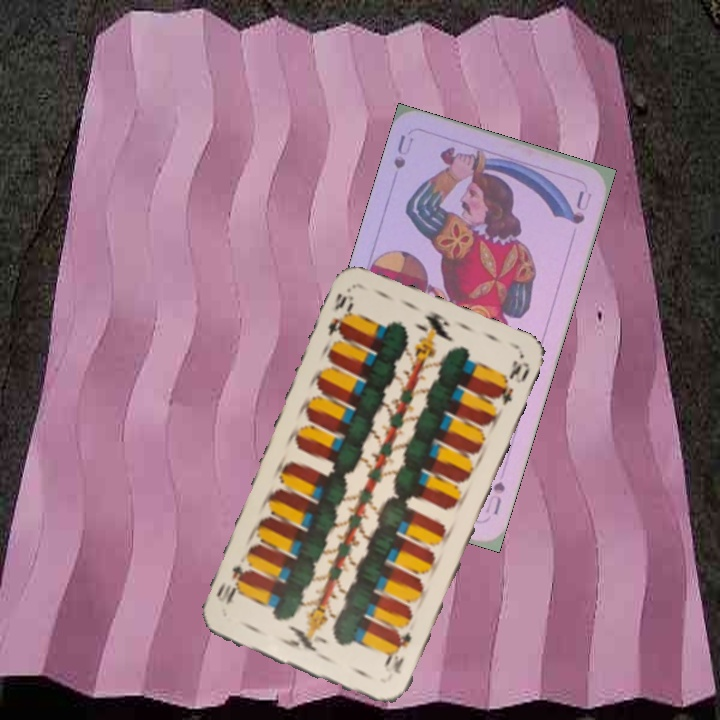E10: (324, 289, 357, 345), (382, 627, 414, 677)
SU: (389, 130, 417, 172), (489, 477, 508, 518)
